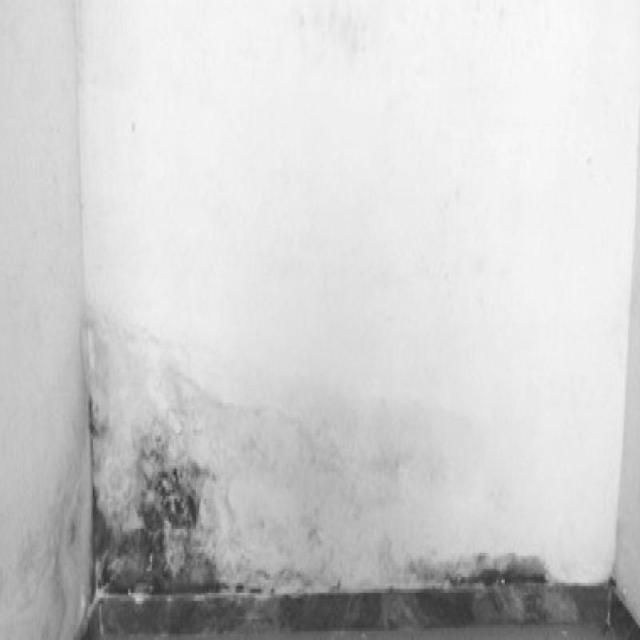stain marks: (5, 294, 622, 640)
